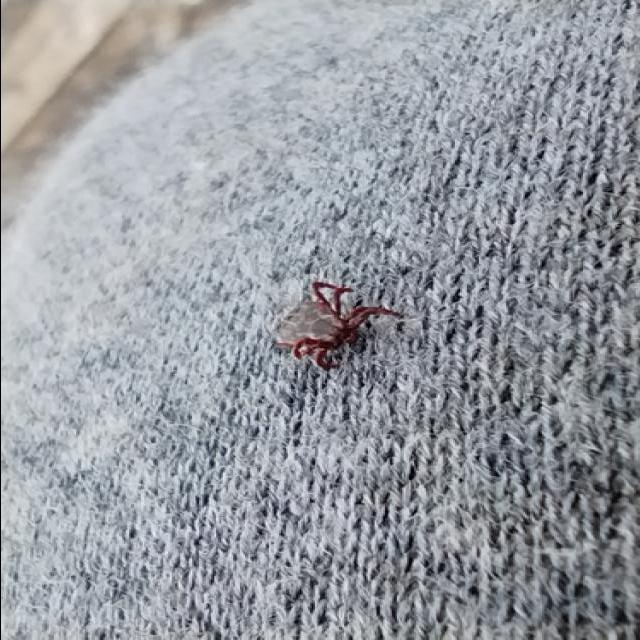Dermacentor Reticulatus-M: (273, 280, 399, 370)
